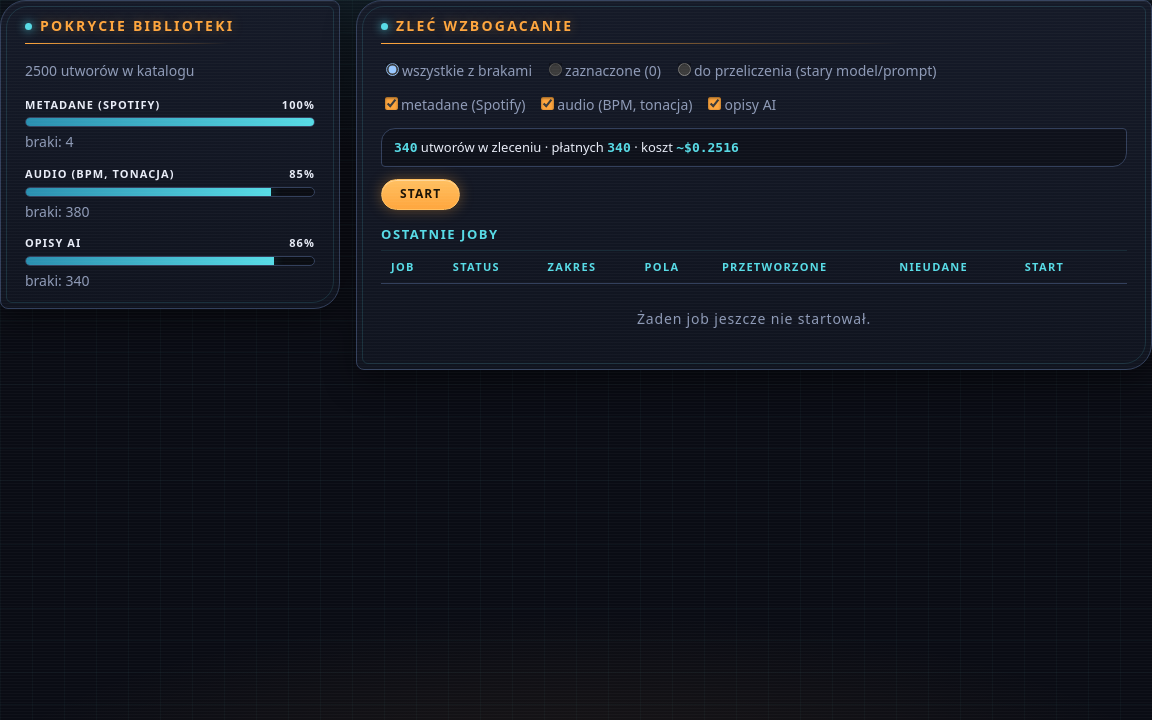
Scenario: EnrichRoute — szacunek przed startem (M5.1) › zakres „do przeliczenia" wysyła OUTDATED i zawęża pola do samego AI
Check: the element with test id "enrich-estimate" is shown, box top-left (381, 128), bottom-right (1127, 167)
Click the radio button labelled "do przeliczenia (stary model/prompt)". click: (684, 70)
box: top-left (678, 63), bottom-right (691, 76)
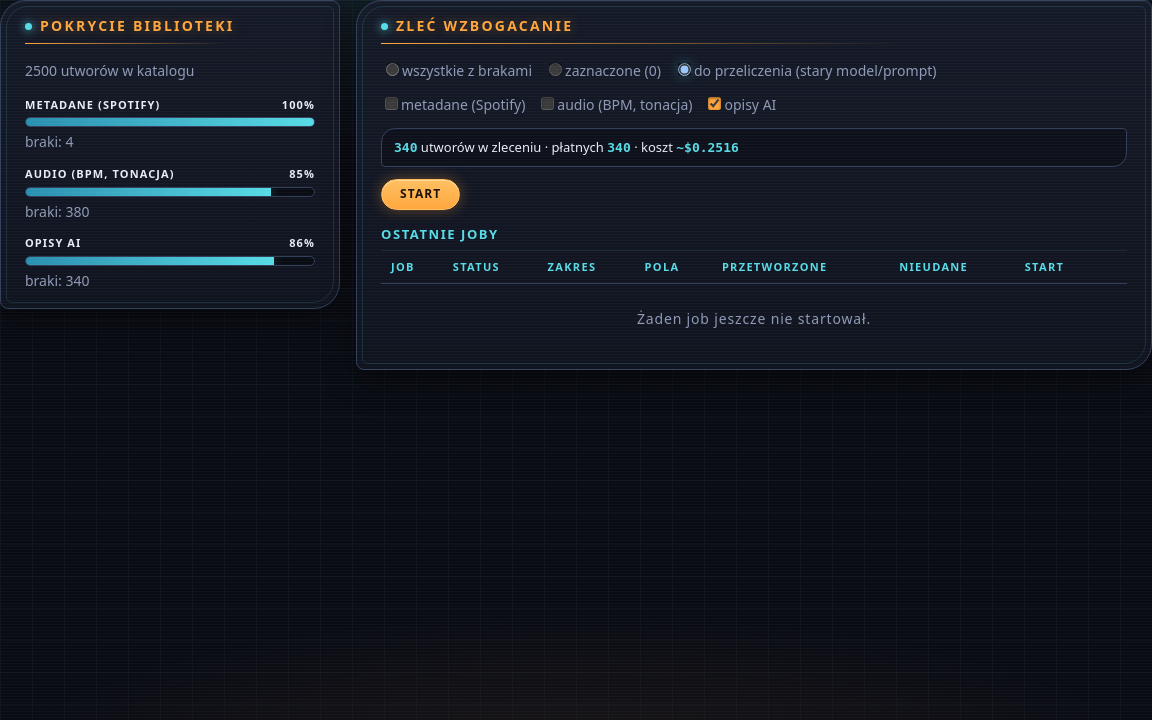
Check: the checkbox labelled "metadane (Spotify)" is disabled, box top-left (385, 97), bottom-right (398, 110)
